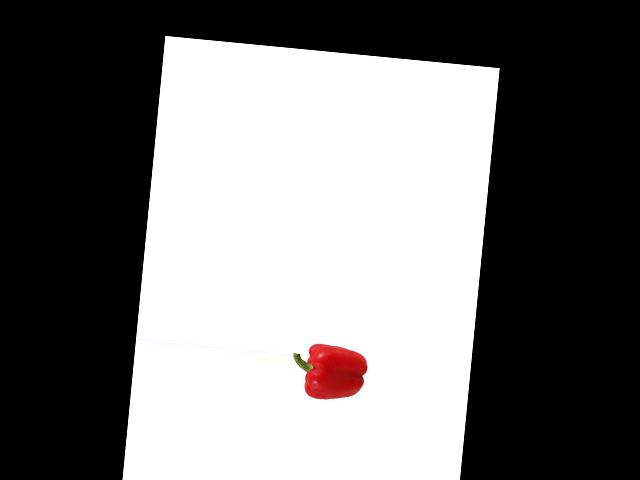bell_pepper: (289, 338, 370, 411)
